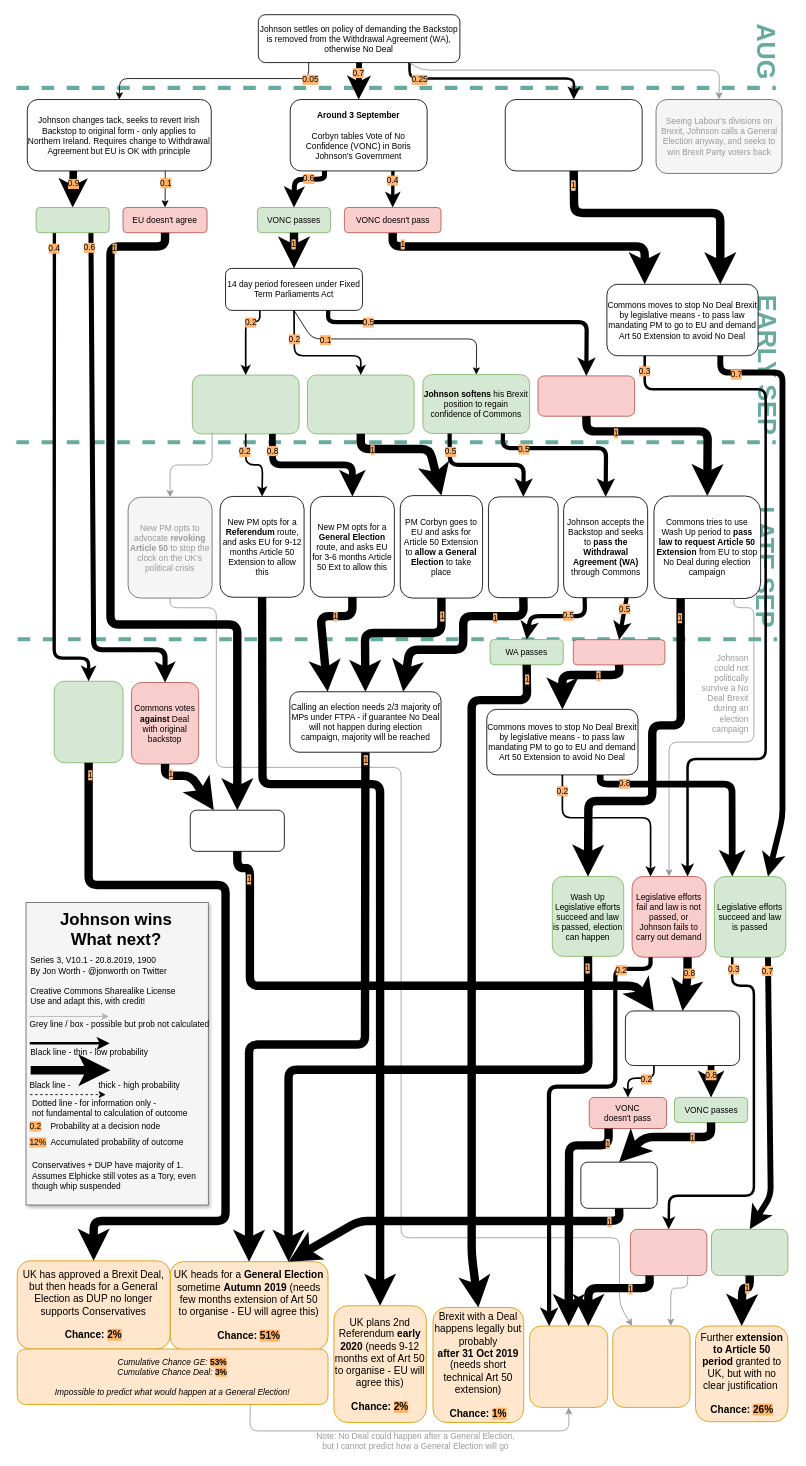
The diagram is 806 pixels wide and 1466 high, and some of its shapes have lost their labels. Here are the shapes that lost their labels. From the top down, the centre of each, then its label:
At [573,135]: "First 2 weeks of September Corbyn does not table Vote of No Confidence (VONC)".
At [72,220]: "EU agrees".
At [245,404]: "Alternative government with a centrist as PM commands majority".
At [360,404]: "Alternative government with Corbyn as PM commands majority".
At [586,395]: "No-one can command a majority".
At [523,547]: "Seeing there is no support for his way forward, Johnson calls an election".
At [618,652]: "WA doesn't pass".
At [88,721]: "Commons votes in favour of Deal with original backstop".
At [236,830]: "DUP furious at Johnson's approach".
At [682,1038]: "Early to mid October Further Vote of No Confidence (VONC)".
At [618,1184]: "Emergency legislation to prevent No Deal".
At [668,1252]: "EU refuses to grant the UK more time".
At [749,1252]: "EU agrees to grant the UK more time".
At [568,1366]: "No Deal Brexit looms on 31 October 2019, Chance: 18%".
At [651,1366]: "Commons votes to Revoke Article 50 Chance: -%".
